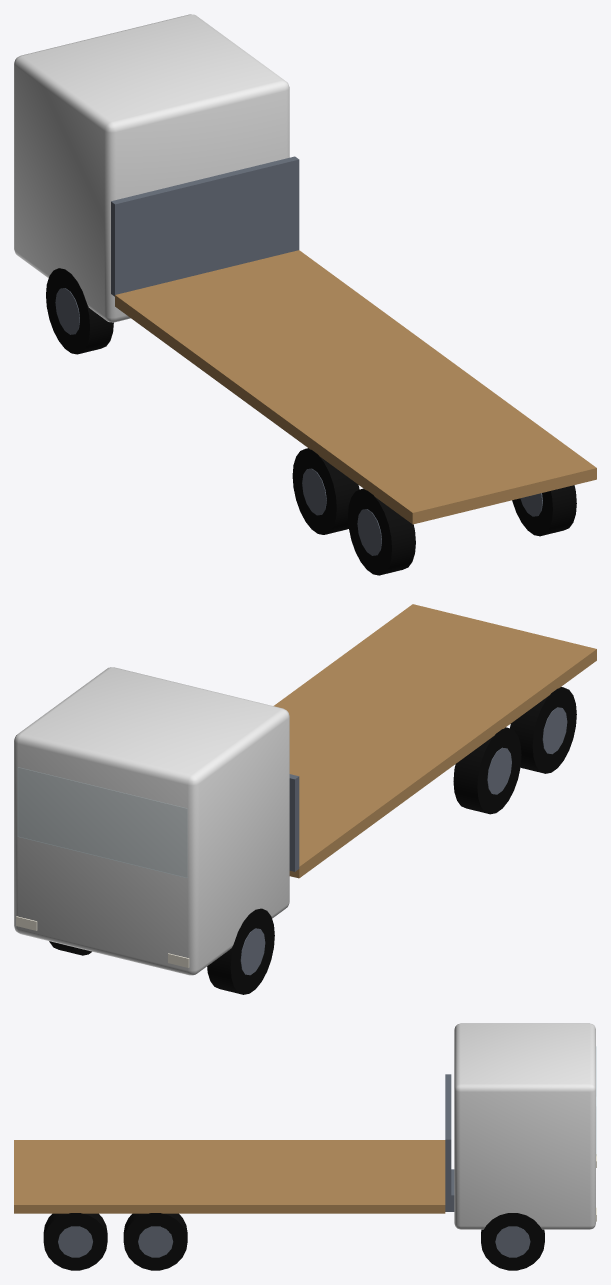
File: vehicle.lorry.flatbed.glb
3 views of the same model, one above another, from view 1: azimuth 30°, elevation 25°; view 2: azimuth 150°, elevation 25°; view 3: azimuth 270°, elevation 25° (orthographic). The views are drawn at different scales.
Visible parts, largest first — view 1: main__softwood, main__car_white, main__steel_painted, main__rubber; view 2: main__car_white, main__softwood, main__glass, main__rubber, main__steel_painted; view 3: main__softwood, main__car_white, main__rubber, main__steel_painted.
Boxes of the visible parts, x1=… form: main__softwood: x1=115, y1=250, x2=596, y2=524; main__car_white: x1=14, y1=14, x2=289, y2=322; main__steel_painted: x1=55, y1=156, x2=542, y2=555; main__rubber: x1=46, y1=268, x2=576, y2=575; main__car_white: x1=14, y1=667, x2=289, y2=975; main__softwood: x1=274, y1=604, x2=596, y2=878; main__glass: x1=18, y1=767, x2=187, y2=877; main__rubber: x1=49, y1=687, x2=576, y2=994; main__steel_painted: x1=240, y1=707, x2=567, y2=975; main__softwood: x1=14, y1=1140, x2=445, y2=1213; main__car_white: x1=454, y1=1023, x2=595, y2=1229; main__rubber: x1=43, y1=1213, x2=544, y2=1270; main__steel_painted: x1=58, y1=1074, x2=530, y2=1257.
Size of the model in its own units: 2.52 by 3.29 by 9.47.
